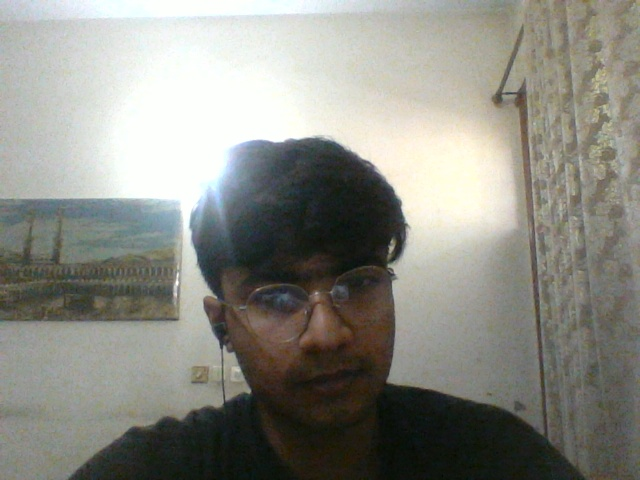neutral: (228, 226, 399, 426)
